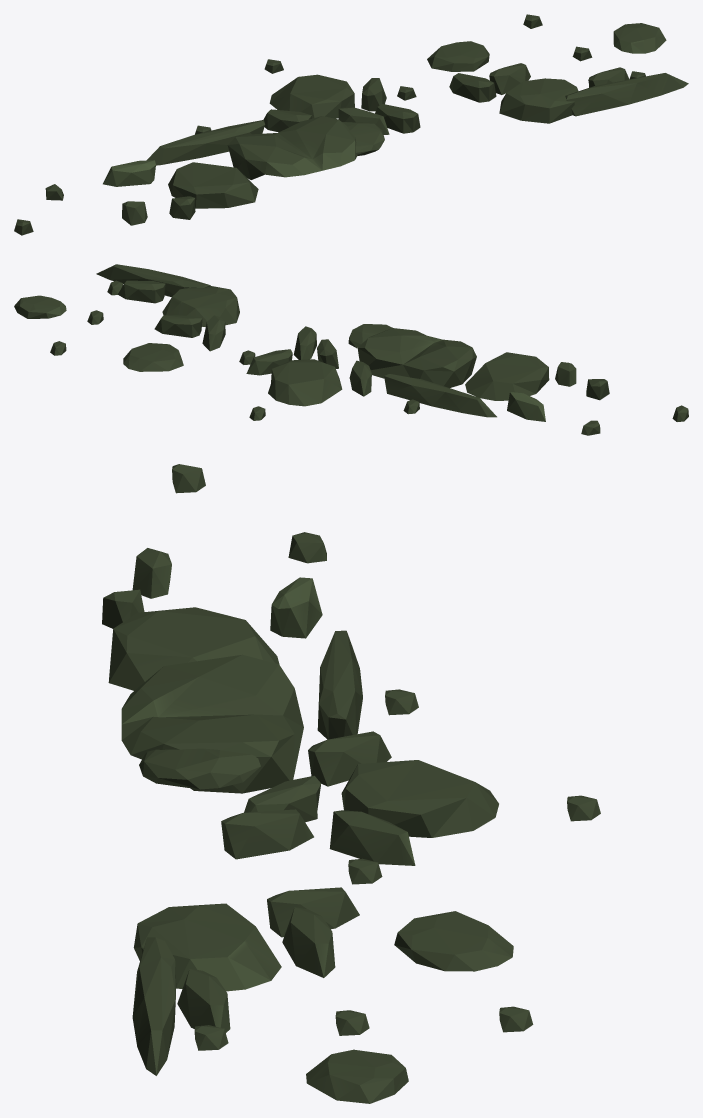
File: EA_Swamp_Stones_03b.glb
The picture shows the model from 3 angles, top to bottom: view 1: azimuth 30°, elevation 25°; view 2: azimuth 150°, elevation 25°; view 3: azimuth 270°, elevation 25°; orthographic projection. The views are drawn at different scales.
Visible parts, largest first — view 1: EA_Swamp_Stones_03b; view 2: EA_Swamp_Stones_03b; view 3: EA_Swamp_Stones_03b.
Part boxes in pixels (x1=…): EA_Swamp_Stones_03b: x1=14, y1=14, x2=688, y2=235; EA_Swamp_Stones_03b: x1=14, y1=264, x2=688, y2=435; EA_Swamp_Stones_03b: x1=102, y1=464, x2=600, y2=1103.
Bounding box in the file's own units: 8.69 × 0.3115 × 2.99.
1 material, 1 textured.
